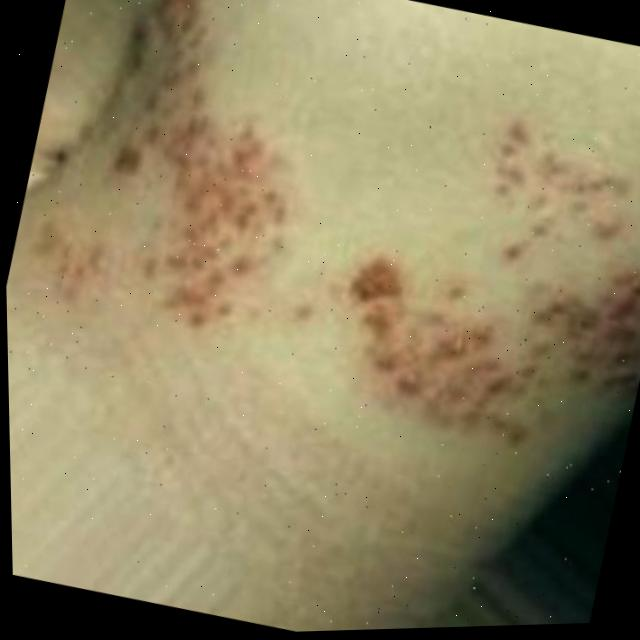Shingles: (311, 79, 640, 478), (25, 0, 352, 354)
